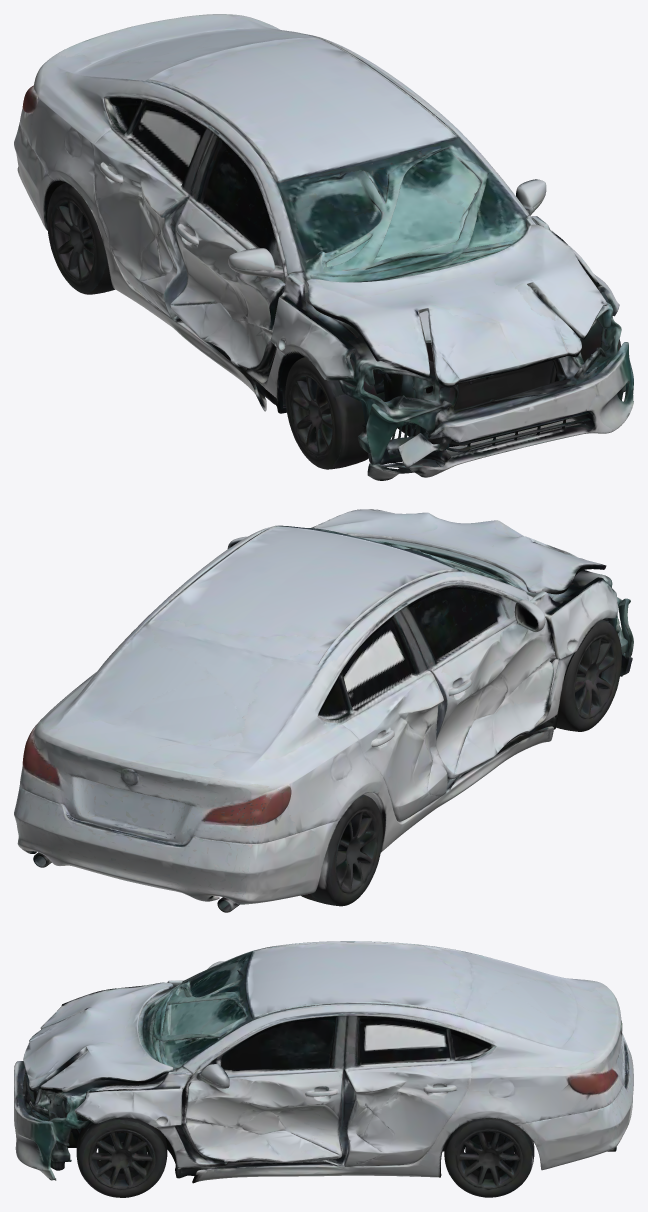
The model's file is broken_car_b6d2e66d_v3.glb.
3 views of the same model, one above another, from view 1: azimuth 30°, elevation 25°; view 2: azimuth 150°, elevation 25°; view 3: azimuth 270°, elevation 25° (orthographic). The views are drawn at different scales.
Visible parts, largest first — view 1: material; view 2: material; view 3: material.
Part boxes in pixels (x1,y1,x2,y2): material: (14, 14, 633, 480); material: (14, 509, 633, 912); material: (14, 941, 633, 1197).
Bounding box in the file's own units: 0.5178 × 0.3615 × 1.15.
Materials: 1 (1 with a texture image).
